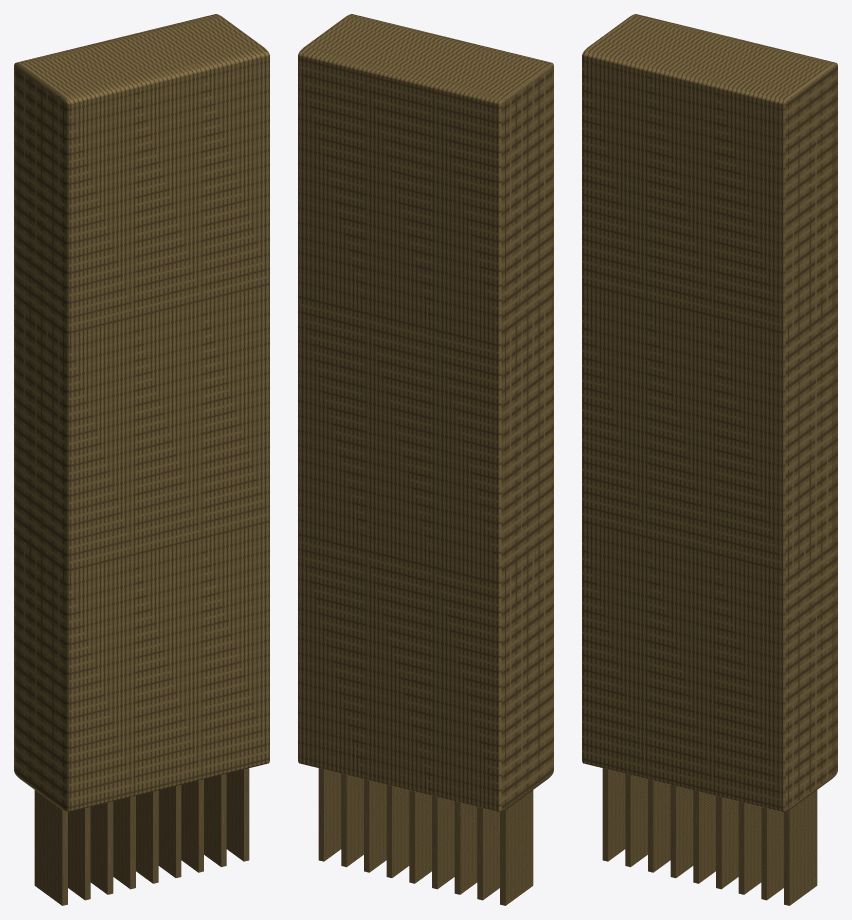
3 views of the same model, side by side, from view 1: azimuth 30°, elevation 25°; view 2: azimuth 150°, elevation 25°; view 3: azimuth 330°, elevation 25° (orthographic).
Parts seen in each view (by area): view 1: a-scarf; view 2: a-scarf; view 3: a-scarf.
Part boxes in pixels (x1,y1,x2,y2): a-scarf: (14, 14, 269, 905); a-scarf: (298, 14, 553, 905); a-scarf: (582, 14, 837, 905).
Size of the model in its own units: 0.17 by 0.65 by 0.08.
1 material, 1 textured.
